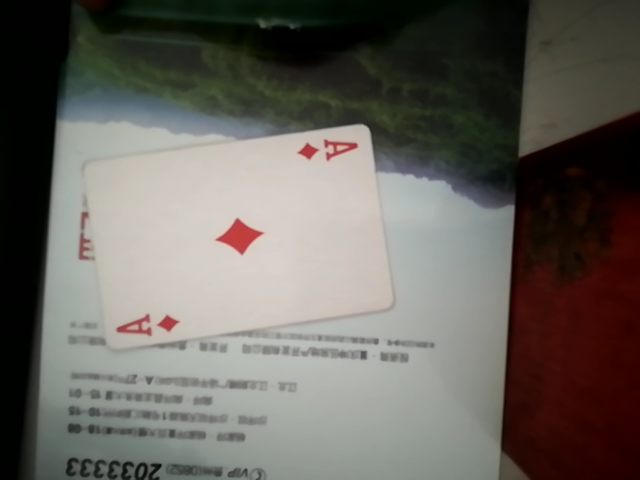fk a: (80, 126, 393, 344)
